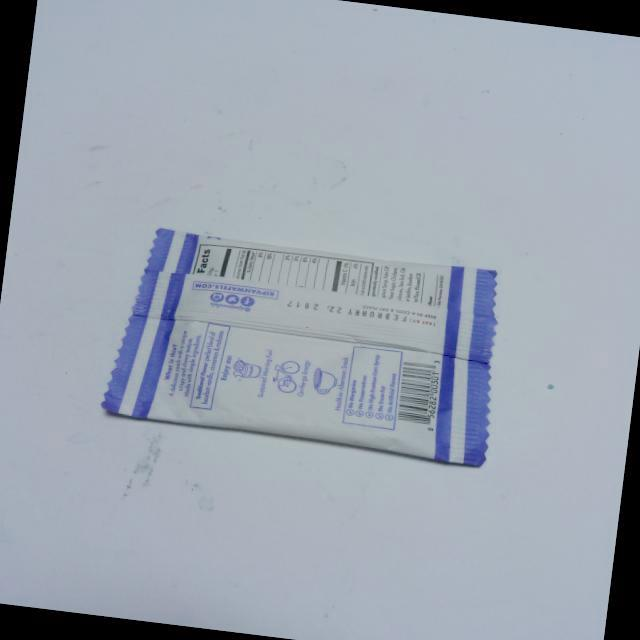plastic: (84, 206, 544, 502)
